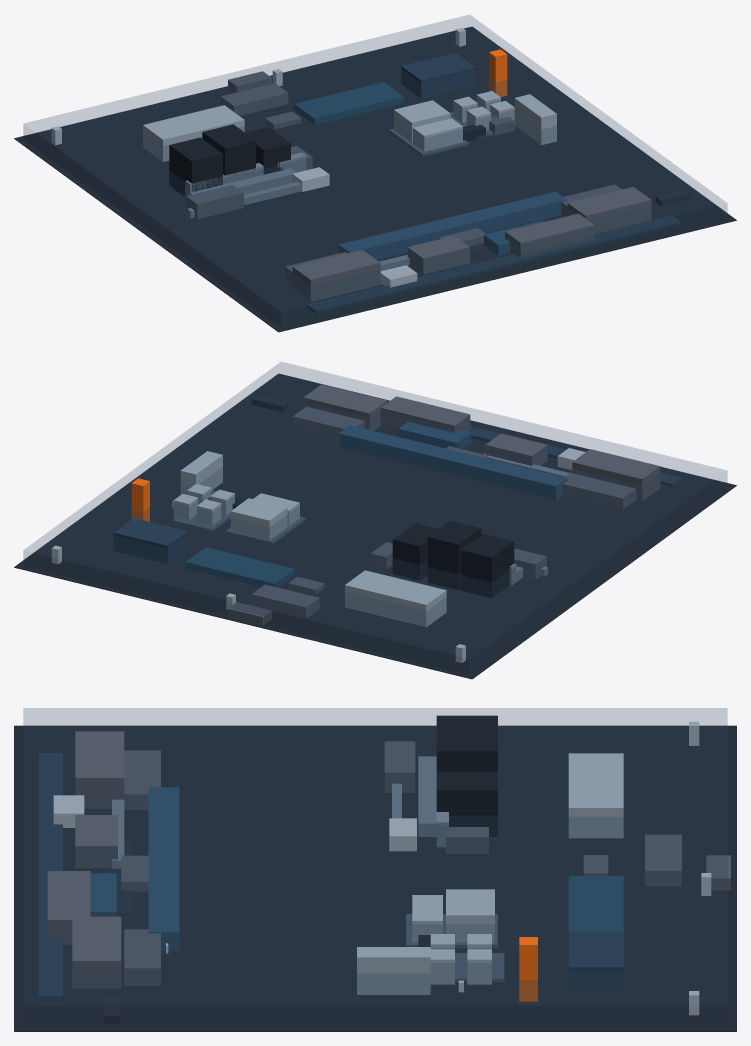
Rendered from chunk-sector-southwest-static.proxy.glb.
The picture shows the model from 3 angles, top to bottom: view 1: azimuth 30°, elevation 25°; view 2: azimuth 150°, elevation 25°; view 3: azimuth 270°, elevation 25°; orthographic projection. The views are drawn at different scales.
Visible parts, largest first — view 1: dtmesh:0:0 (×13); view 2: dtmesh:0:0 (×12); view 3: dtmesh:0:0 (×13).
Part boxes in pixels (left/top/right/bottom): dtmesh:0:0 (×13): left=14, top=15, right=736, bottom=332; dtmesh:0:0 (×12): left=14, top=362, right=736, bottom=679; dtmesh:0:0 (×13): left=14, top=708, right=736, bottom=1031.
Bounding box in the file's own units: 236 × 22.74 × 236.
